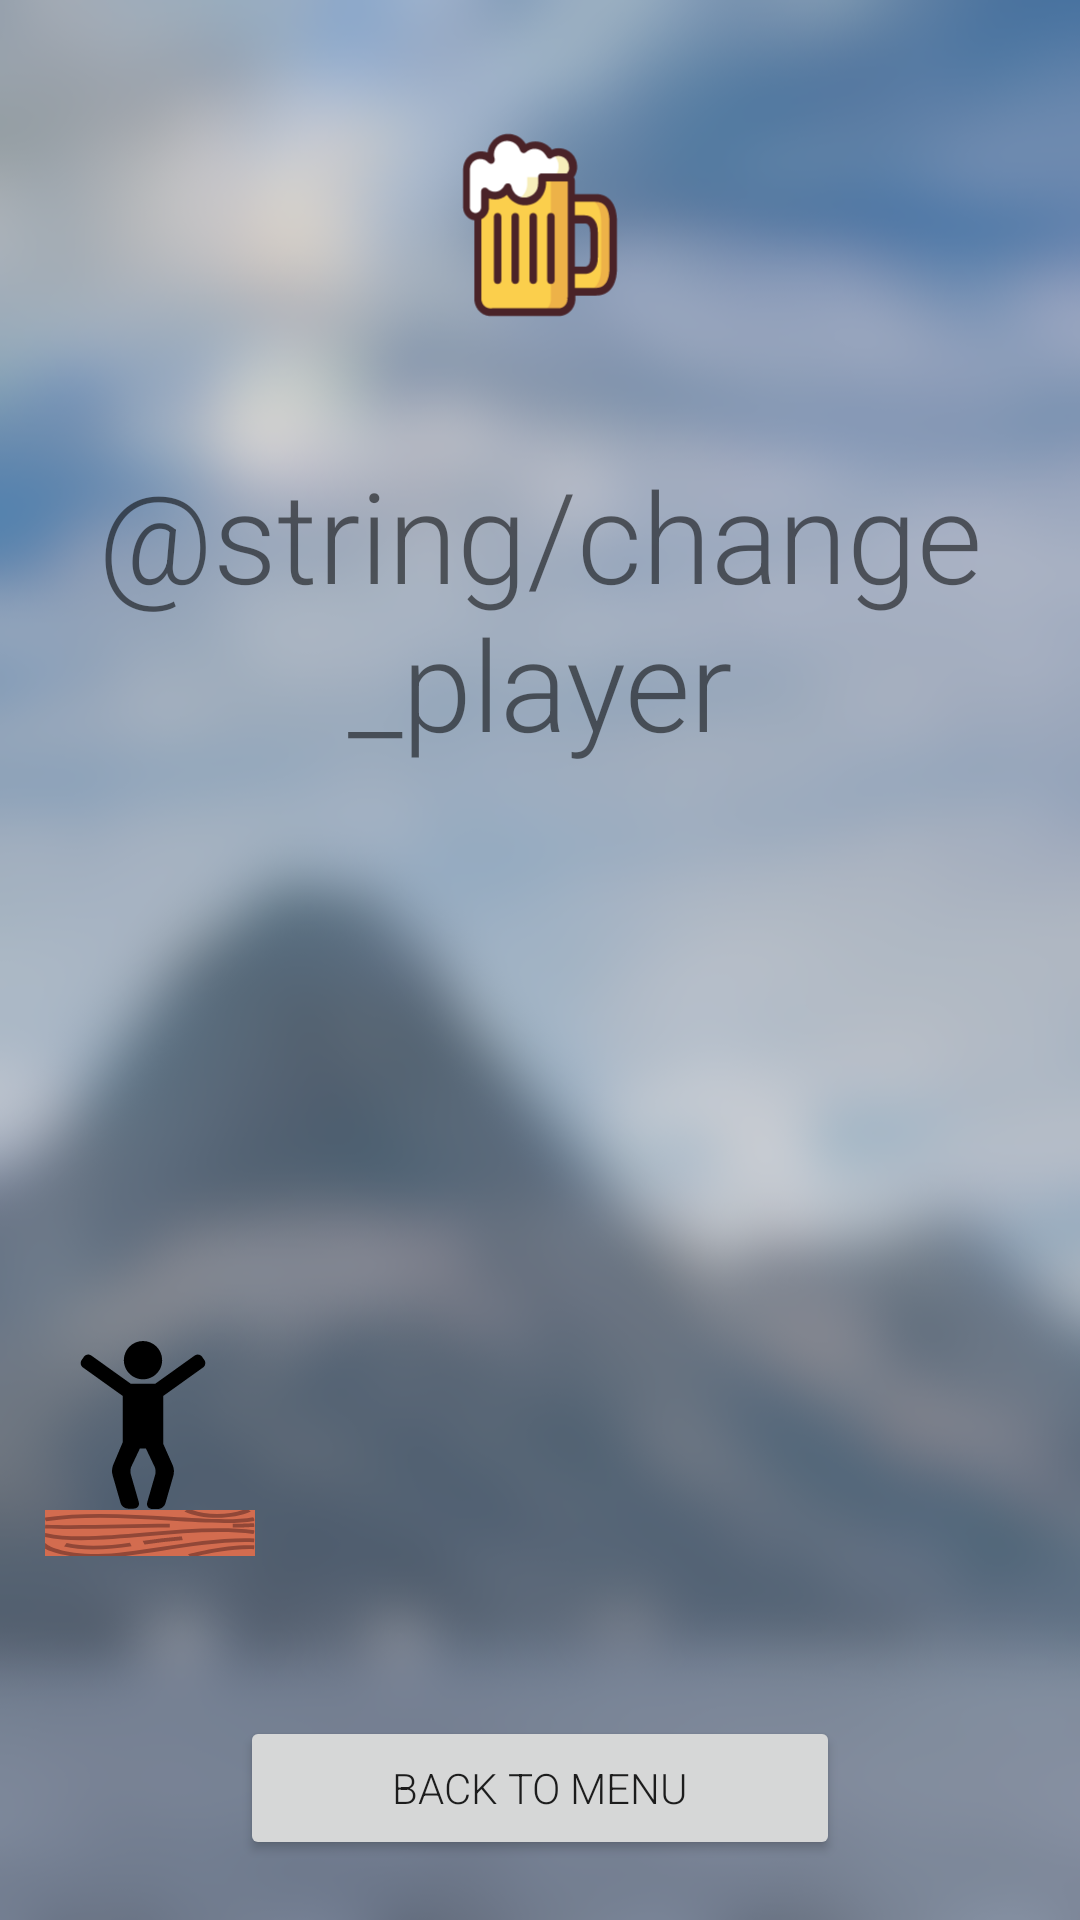

Where to tap for icons on this 1080px x 1920px app screen, as (x=x, y=y):
player down: (x=143, y=1425)
